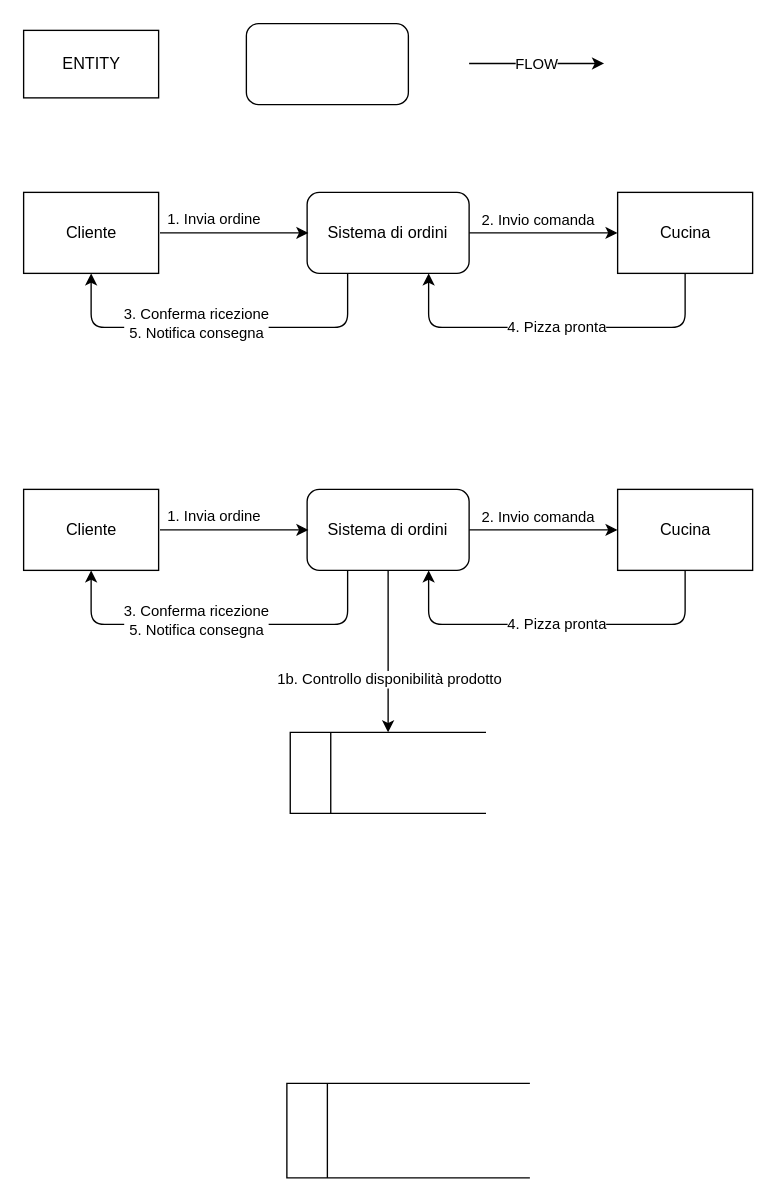
The diagram is 776 pixels wide and 1202 high, and some of its shapes have lost their labels. Here are the shapes that lost their labels. From the top down, the centre of each, then its label:
point 326,63: PROCESS
point 387,772: D1 Catalogo prodotti
point 408,1130: D1 DATA STORE
